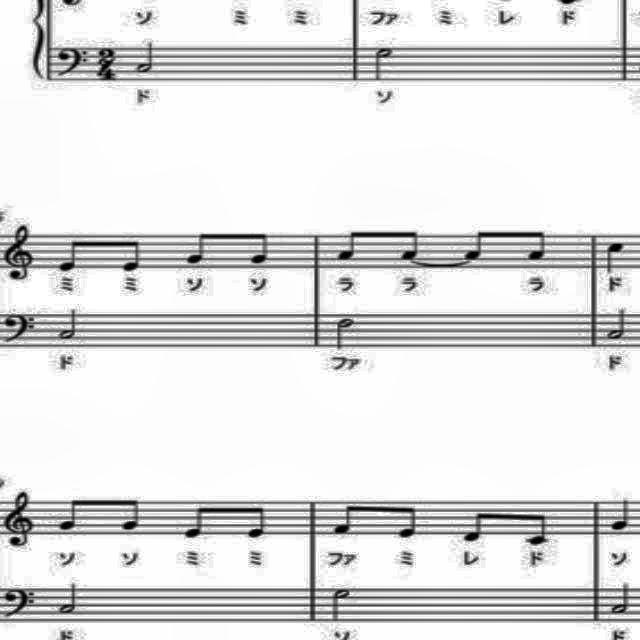Bass-clef: (1, 308, 41, 352), (0, 582, 40, 622), (55, 40, 93, 80)
Eighth-note: (181, 219, 213, 269), (459, 504, 497, 544), (329, 494, 361, 540), (334, 222, 366, 266), (244, 226, 274, 270), (462, 223, 494, 264), (522, 505, 550, 549), (54, 233, 82, 274), (525, 222, 551, 266), (118, 232, 146, 272), (118, 494, 146, 534), (182, 502, 210, 542), (244, 502, 270, 542), (395, 502, 421, 542), (398, 223, 422, 265), (58, 492, 82, 534)
Half-note: (324, 586, 356, 624), (132, 38, 160, 76), (370, 44, 398, 82), (606, 584, 634, 622), (604, 307, 632, 345), (332, 314, 360, 351), (52, 309, 80, 343), (58, 582, 78, 618)
Quarter-note: (602, 237, 628, 276), (608, 497, 634, 535)
Treble-clef: (0, 487, 40, 553), (3, 224, 45, 284)
